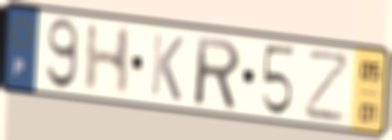5: (260, 42, 299, 118)
9: (44, 16, 82, 94)
H: (81, 21, 135, 98)
K: (148, 29, 187, 105)
R: (194, 34, 243, 113)
Z: (303, 50, 353, 126)
